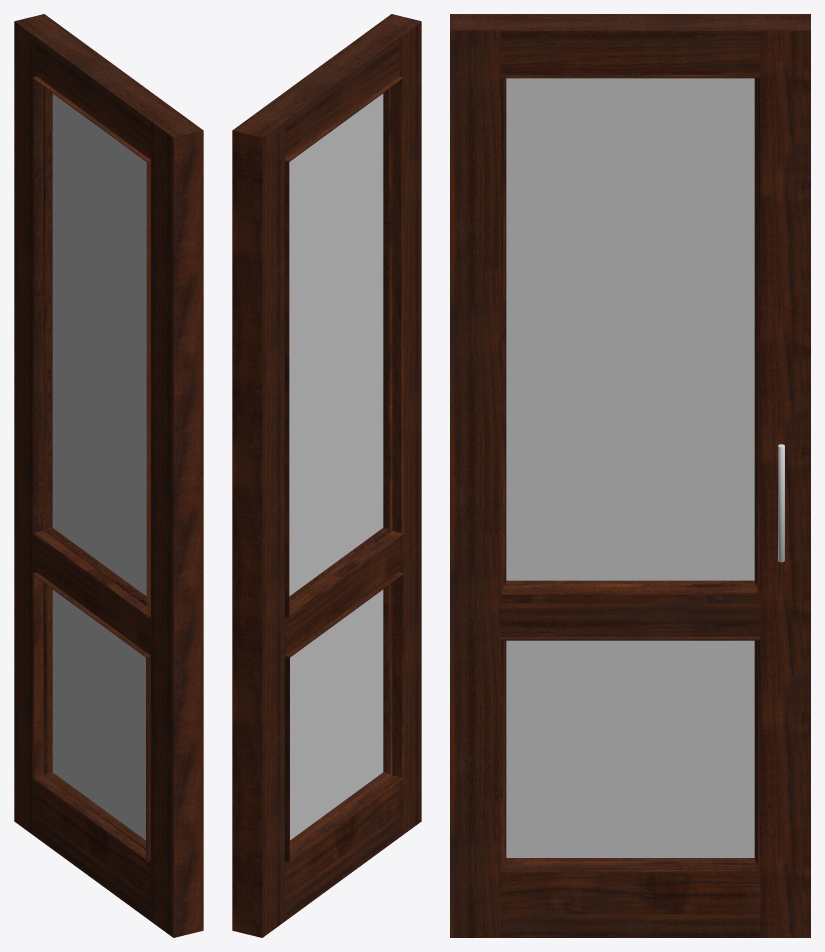
Rendered from DoorLeft.fbx.
3 views of the same model, side by side, from view 1: azimuth 30°, elevation 25°; view 2: azimuth 150°, elevation 25°; view 3: azimuth 270°, elevation 25° (orthographic). The views are drawn at different scales.
Parts seen in each view (by area): view 1: Wood Glass Double Door.001; view 2: Wood Glass Double Door.001; view 3: Wood Glass Double Door.001.
Boxes of the visible parts, x1=… form: Wood Glass Double Door.001: x1=14, y1=14, x2=203, y2=937; Wood Glass Double Door.001: x1=232, y1=14, x2=421, y2=937; Wood Glass Double Door.001: x1=450, y1=14, x2=810, y2=937.
Size of the model in its own units: 20.93 by 397 by 143.
